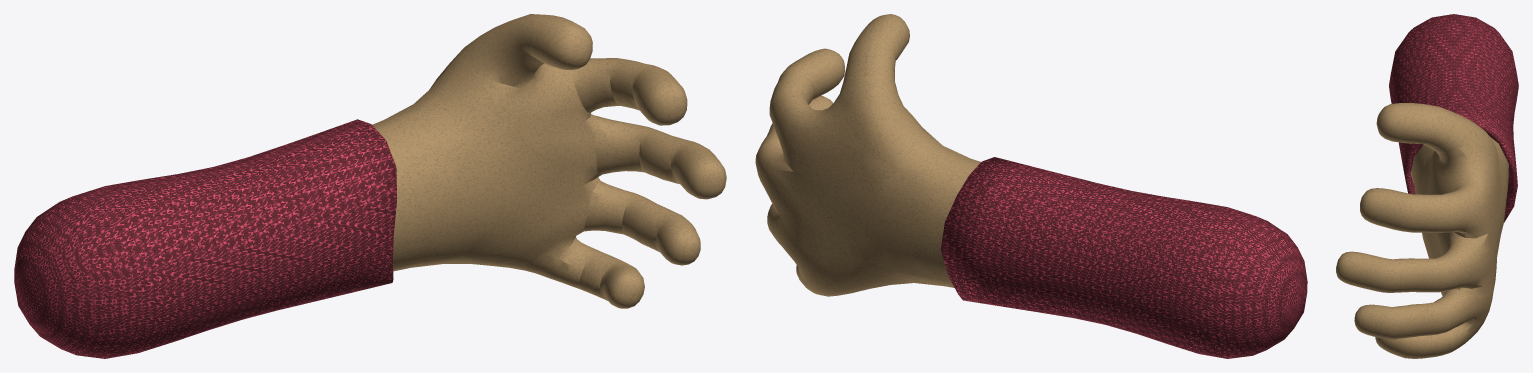
The model's file is GameJamHand.fbx.
3 renders of one model, left to right at view 1: azimuth 30°, elevation 25°; view 2: azimuth 150°, elevation 25°; view 3: azimuth 270°, elevation 25°, orthographic. The views are drawn at different scales.
Parts seen in each view (by area): view 1: Cube, Cube.001; view 2: Cube.001, Cube; view 3: Cube, Cube.001.
Part boxes in pixels (x1,y1,x2,y2): Cube: (372, 14, 726, 308); Cube.001: (14, 119, 396, 358); Cube.001: (940, 157, 1307, 358); Cube: (755, 14, 980, 296); Cube: (1336, 103, 1508, 358); Cube.001: (1389, 14, 1518, 222).
Bounding box in the file's own units: 503 × 225 × 162.
Materials: 2 (2 with a texture image).
